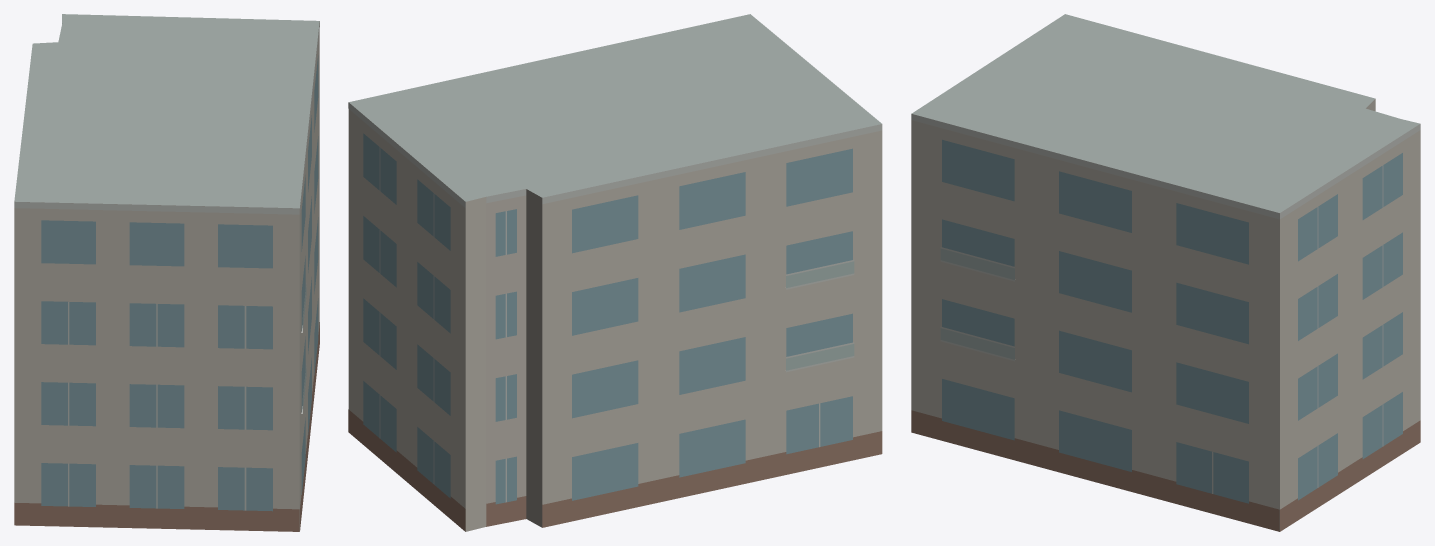
The model's file is survey-upis-32738020.glb.
The picture shows the model from 3 angles, left to right: view 1: azimuth 30°, elevation 25°; view 2: azimuth 150°, elevation 25°; view 3: azimuth 270°, elevation 25°; orthographic projection. The views are drawn at different scales.
Parts seen in each view (by area): view 1: survey-upis-32738020.tmp; view 2: survey-upis-32738020.tmp; view 3: survey-upis-32738020.tmp.
Part boxes in pixels (<box>): survey-upis-32738020.tmp: <box>14,14,319,531</box>; survey-upis-32738020.tmp: <box>348,14,882,531</box>; survey-upis-32738020.tmp: <box>911,14,1420,531</box>.
Bounding box in the file's own units: 16.63 × 12.4 × 17.96.
